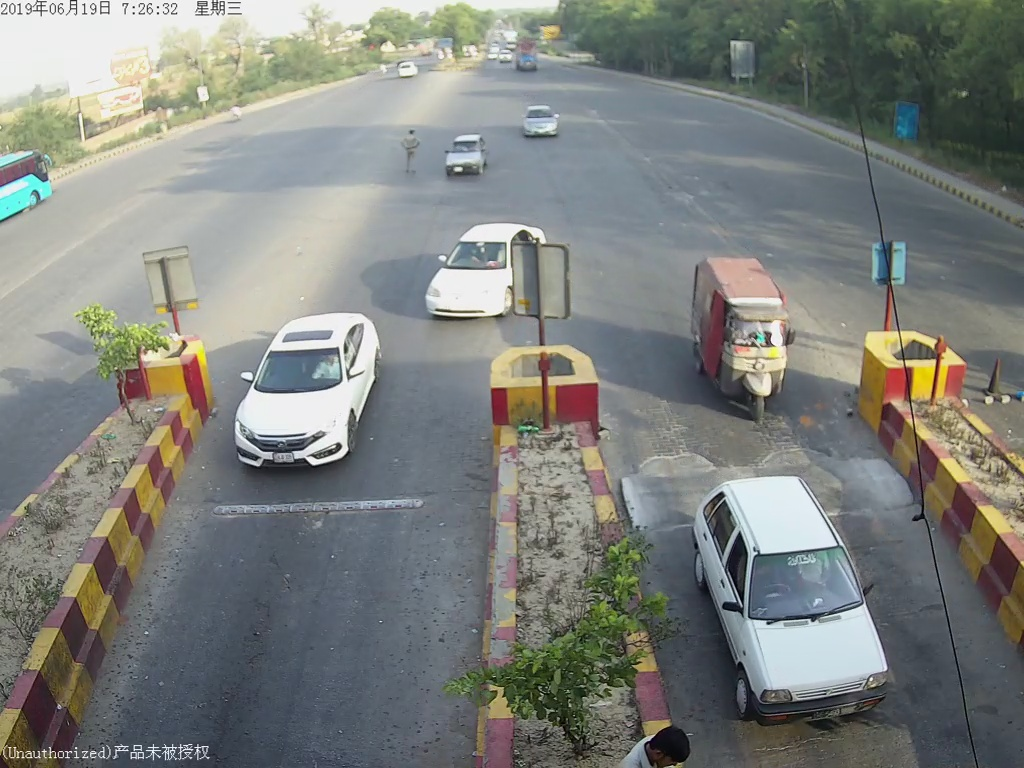Cat-1: (686, 464, 910, 728), (227, 309, 391, 471), (415, 216, 517, 324), (438, 129, 491, 183), (521, 100, 564, 145)
